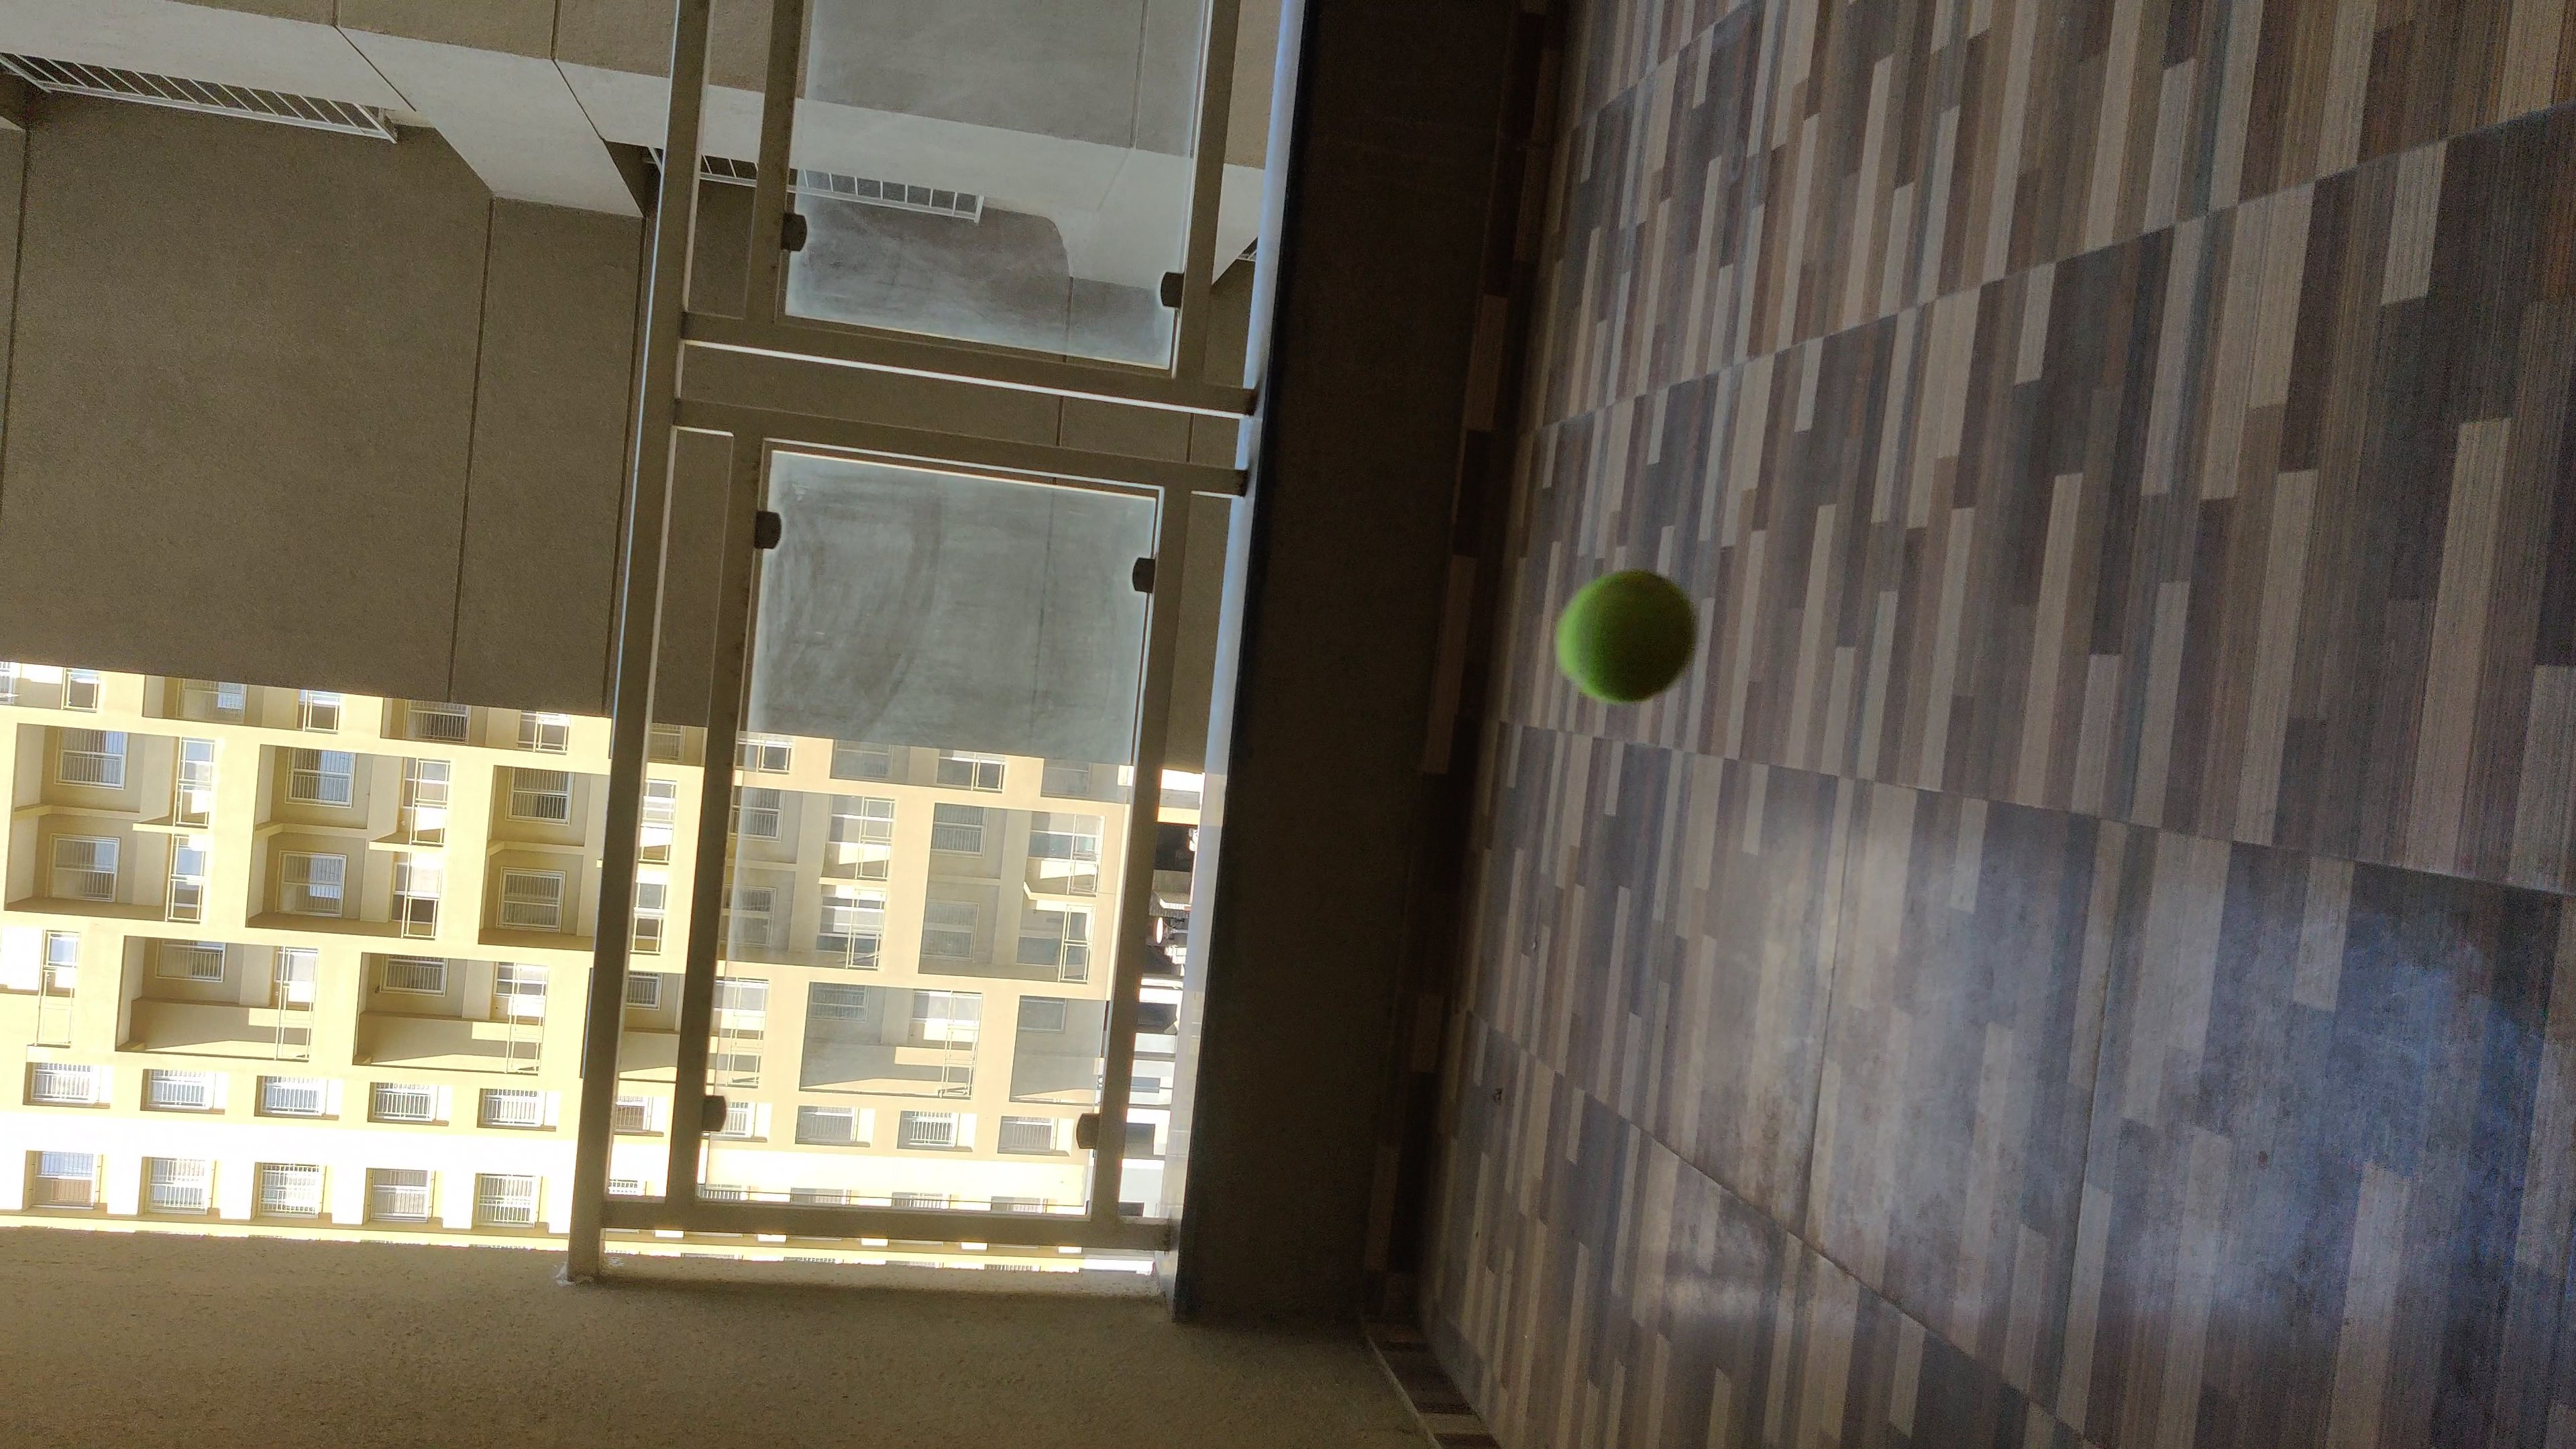Tennis-Ball: (1555, 571, 1698, 702)
